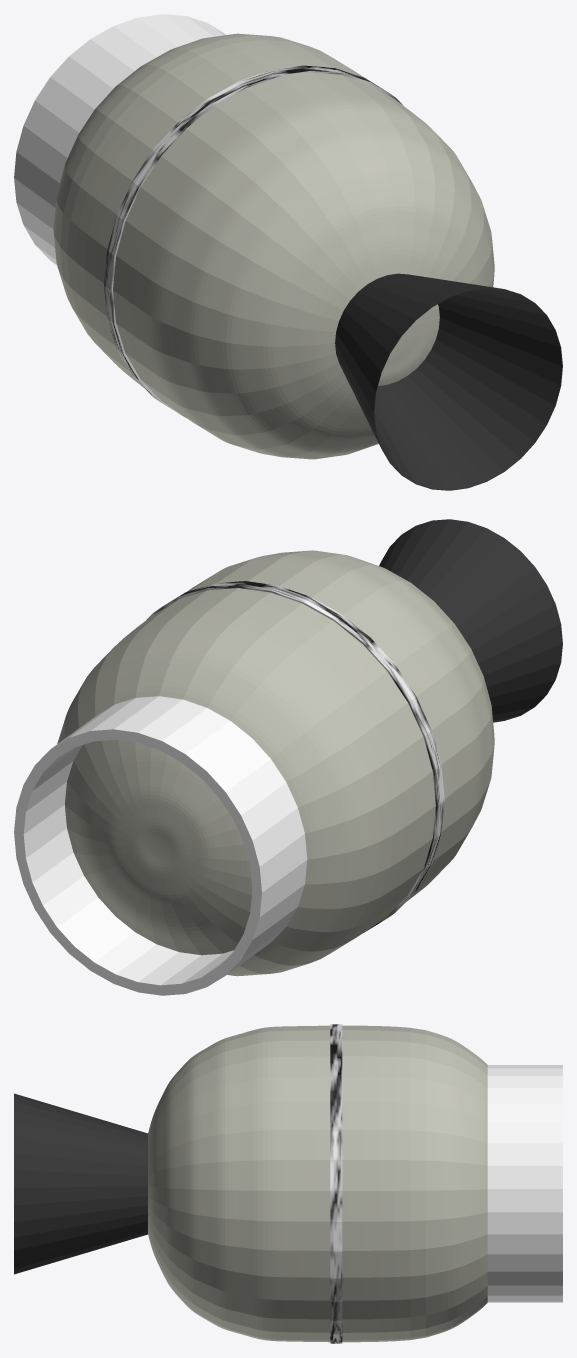
The model's file is star37fm.obj.
The picture shows the model from 3 angles, top to bottom: view 1: azimuth 30°, elevation 25°; view 2: azimuth 150°, elevation 25°; view 3: azimuth 270°, elevation 25°; orthographic projection. The views are drawn at different scales.
Parts seen in each view (by area): view 1: group3, group1, group2, group0; view 2: group3, group2, group1, group0; view 3: group3, group1, group2, group0.
Part boxes in pixels (x1,y1,x2,y2): group3: (53, 33, 494, 459); group1: (335, 273, 562, 490); group2: (14, 14, 226, 264); group0: (104, 65, 402, 417); group3: (57, 550, 494, 976); group2: (14, 696, 307, 995); group1: (379, 519, 562, 722); group0: (146, 581, 444, 932); group3: (148, 1025, 487, 1342); group1: (14, 1093, 147, 1274); group2: (487, 1065, 562, 1302); group0: (330, 1024, 342, 1343).
Bounding box in the file's own units: 1.02 × 1.02 × 1.75.
Materials: 4 (1 with a texture image).
